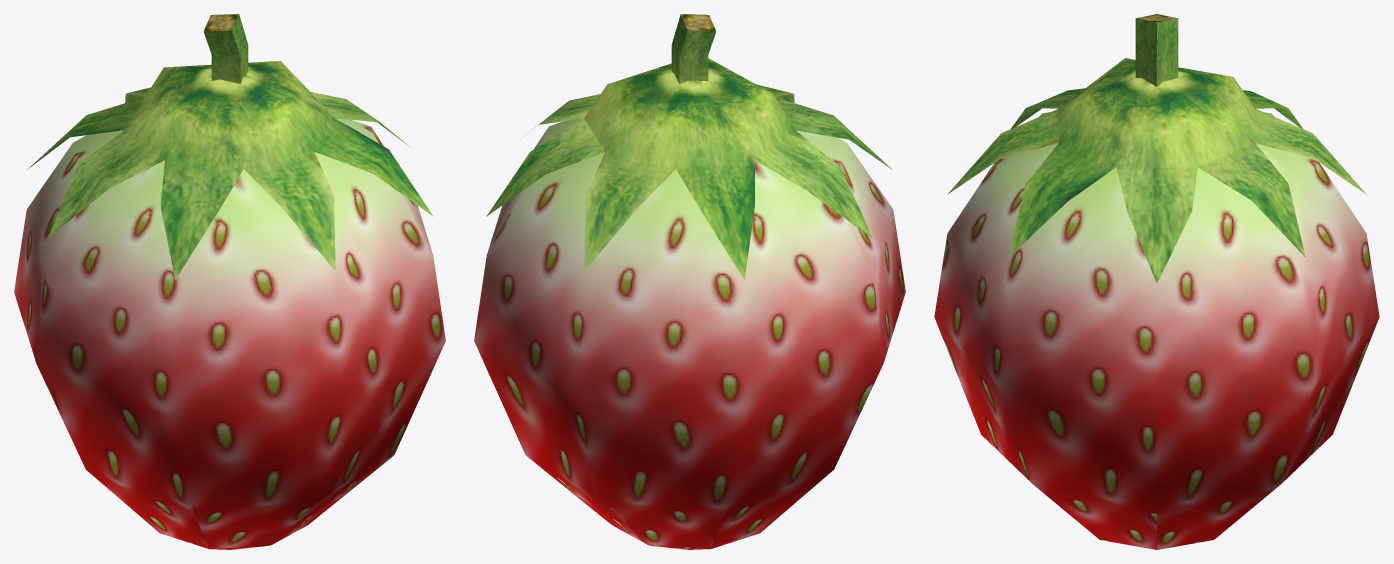
Rendered from strawberry.fbx.
3 renders of one model, left to right at view 1: azimuth 30°, elevation 25°; view 2: azimuth 150°, elevation 25°; view 3: azimuth 270°, elevation 25°, orthographic.
Visible parts, largest first — view 1: strawberry; view 2: strawberry; view 3: strawberry.
Part boxes in pixels (bbox=[...]): strawberry: bbox=[14, 14, 445, 549]; strawberry: bbox=[474, 14, 905, 549]; strawberry: bbox=[934, 14, 1379, 549].
Size of the model in its own units: 14.08 by 18.54 by 14.08.
